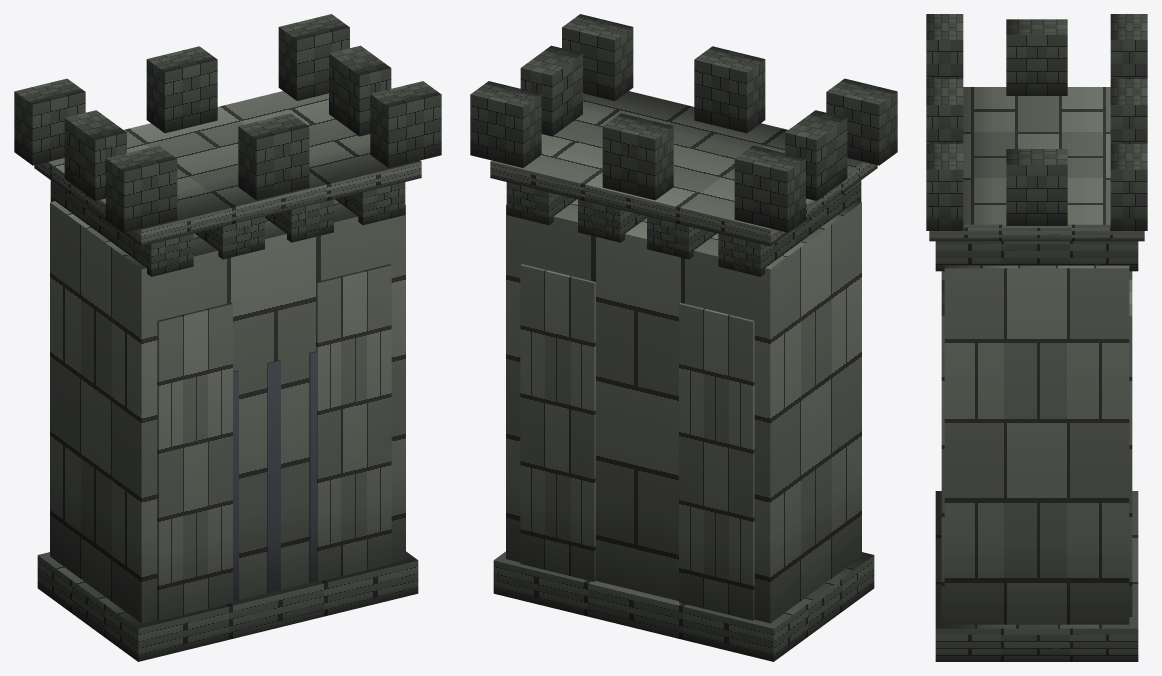
File: barbican.gltf
The picture shows the model from 3 angles, left to right: view 1: azimuth 30°, elevation 25°; view 2: azimuth 150°, elevation 25°; view 3: azimuth 270°, elevation 25°; orthographic projection.
Parts seen in each view (by area): view 1: barbican; view 2: barbican; view 3: barbican.
Boxes of the visible parts, <box> form: barbican: <box>14,14,441,661</box>; barbican: <box>470,14,897,661</box>; barbican: <box>926,14,1147,661</box>.
Size of the model in its own units: 1.2 by 1.8 by 0.72.
Materials: 1 (1 with a texture image).
